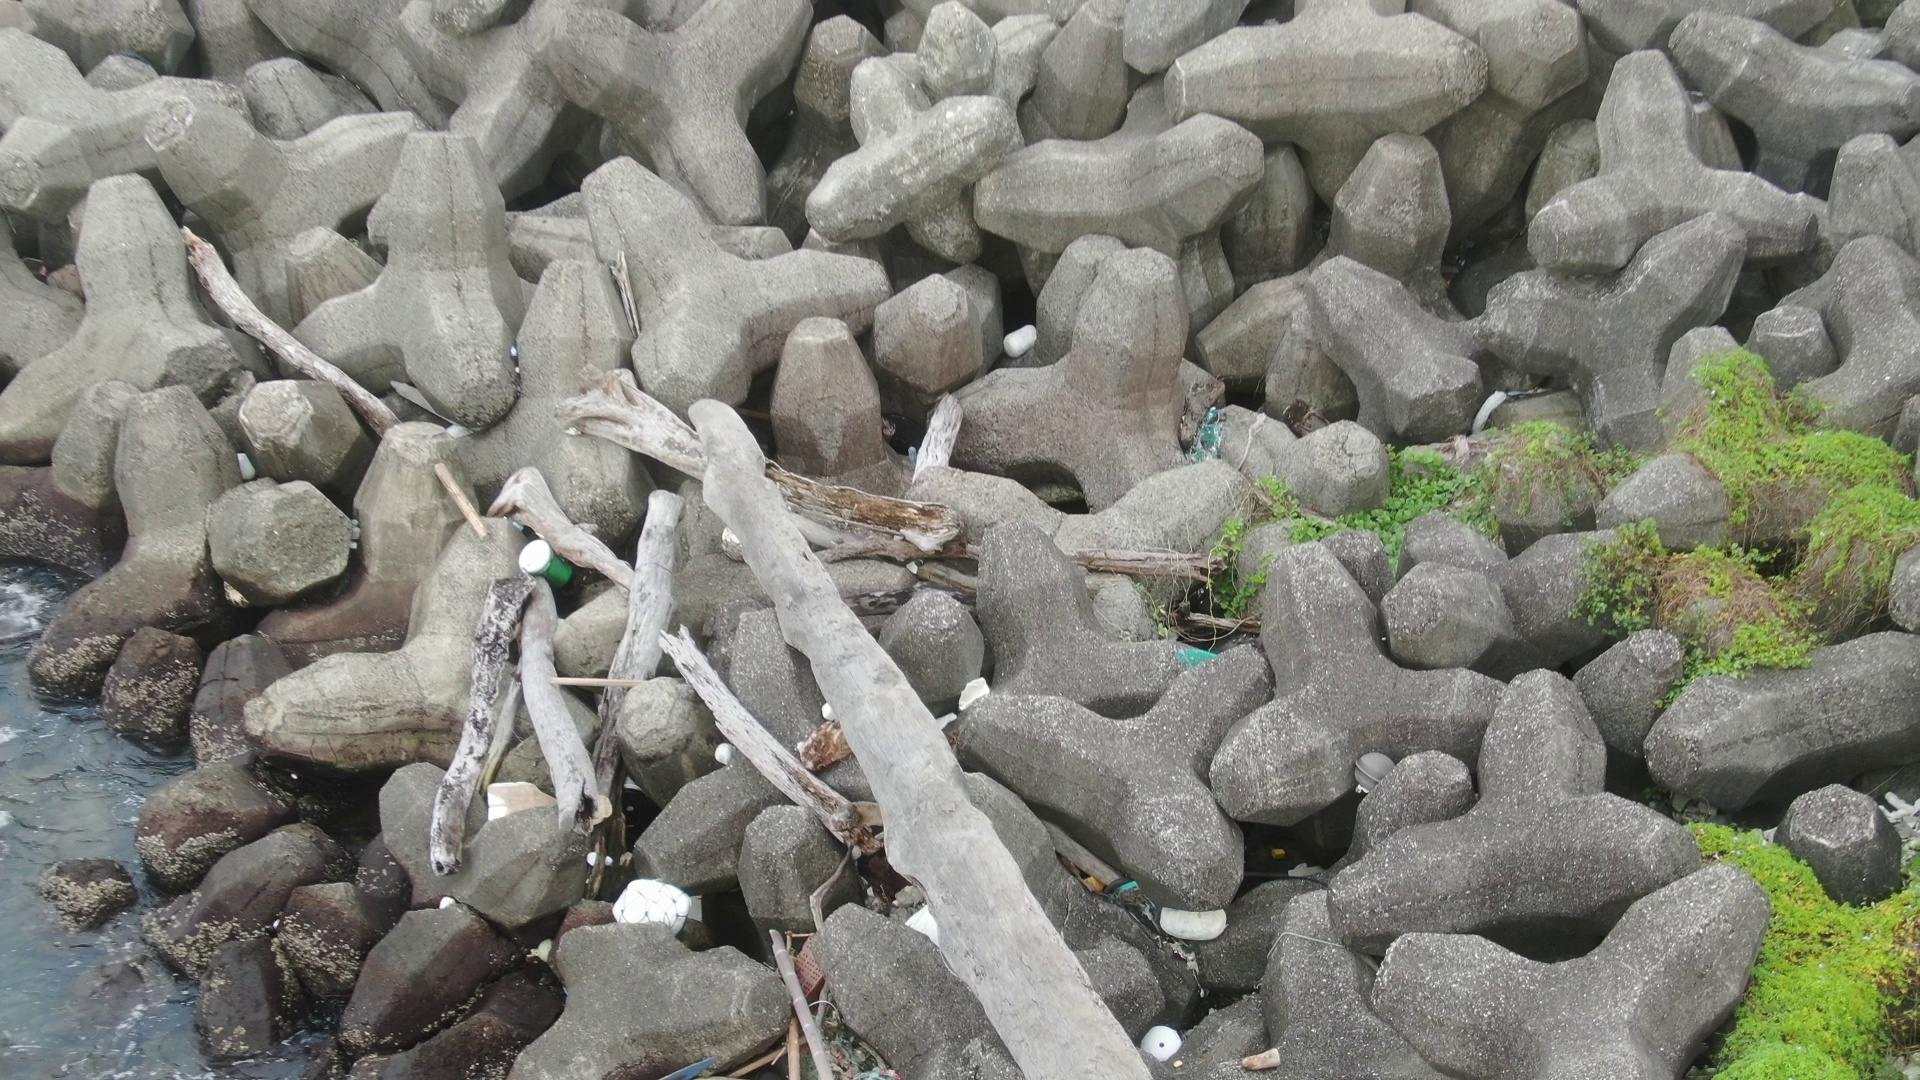garbage: (637, 938, 907, 1080), (1462, 375, 1555, 442), (607, 874, 702, 938), (1153, 891, 1241, 944), (516, 533, 580, 592), (1345, 746, 1408, 800), (1002, 320, 1050, 360)
